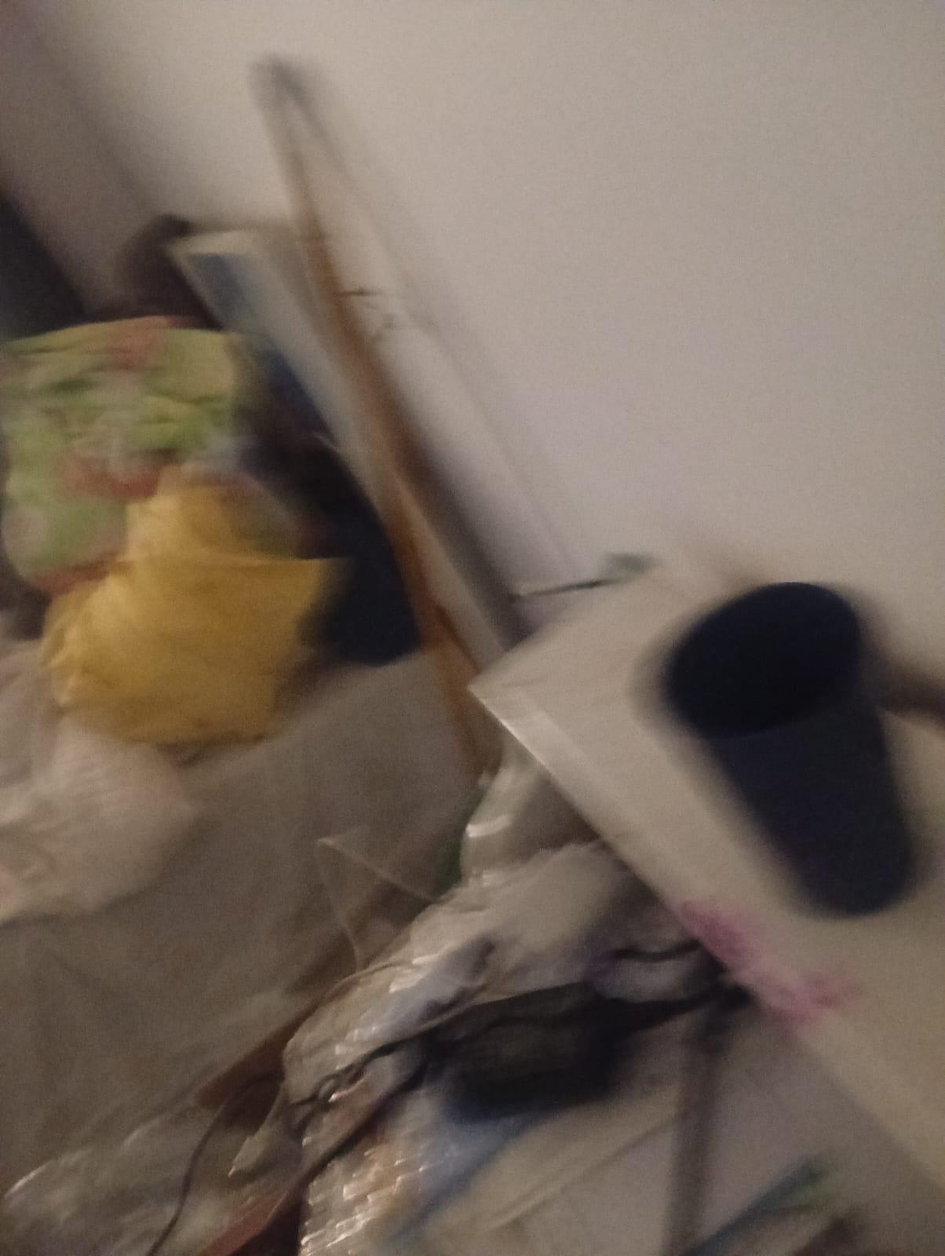cup: (661, 582, 913, 915)
